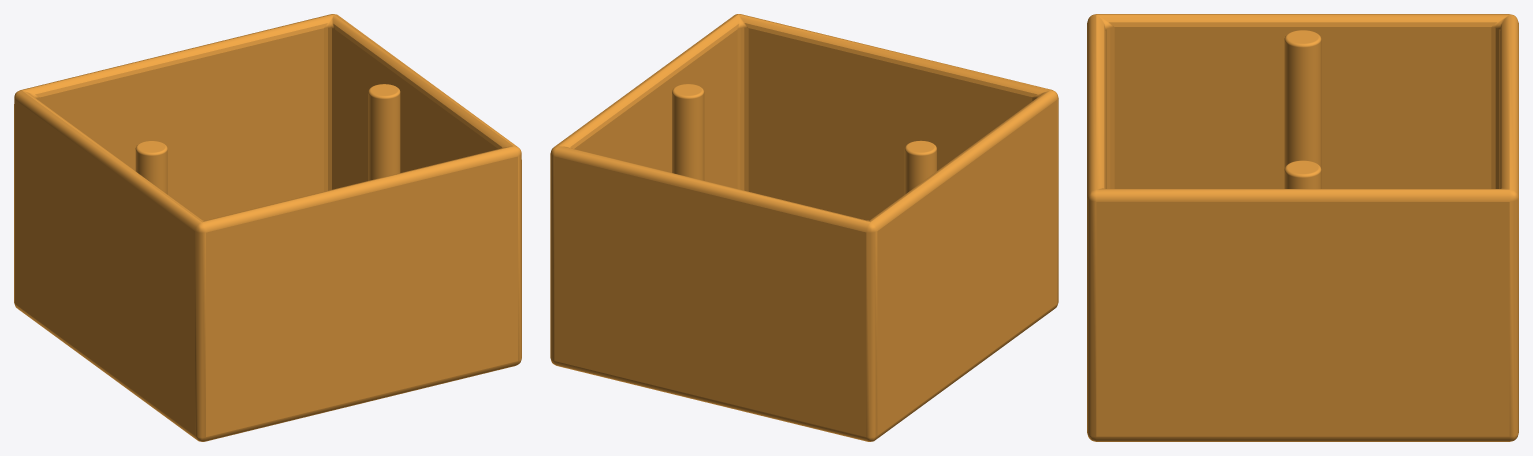
The model's file is flush_box.glb.
The picture shows the model from 3 angles, left to right: view 1: azimuth 30°, elevation 25°; view 2: azimuth 150°, elevation 25°; view 3: azimuth 270°, elevation 25°; orthographic projection. The views are drawn at different scales.
Parts seen in each view (by area): view 1: body; view 2: body; view 3: body.
Part boxes in pixels (left/top/right/bottom): body: left=14, top=14, right=521, bottom=441; body: left=550, top=14, right=1058, bottom=441; body: left=1087, top=14, right=1518, bottom=441.
Size of the model in its own units: 0.07 by 0.045 by 0.07.
